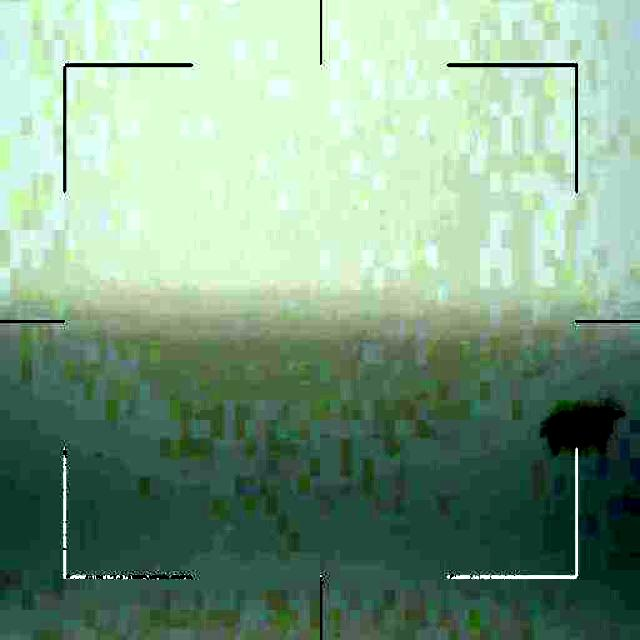bird: (544, 406, 615, 456)
